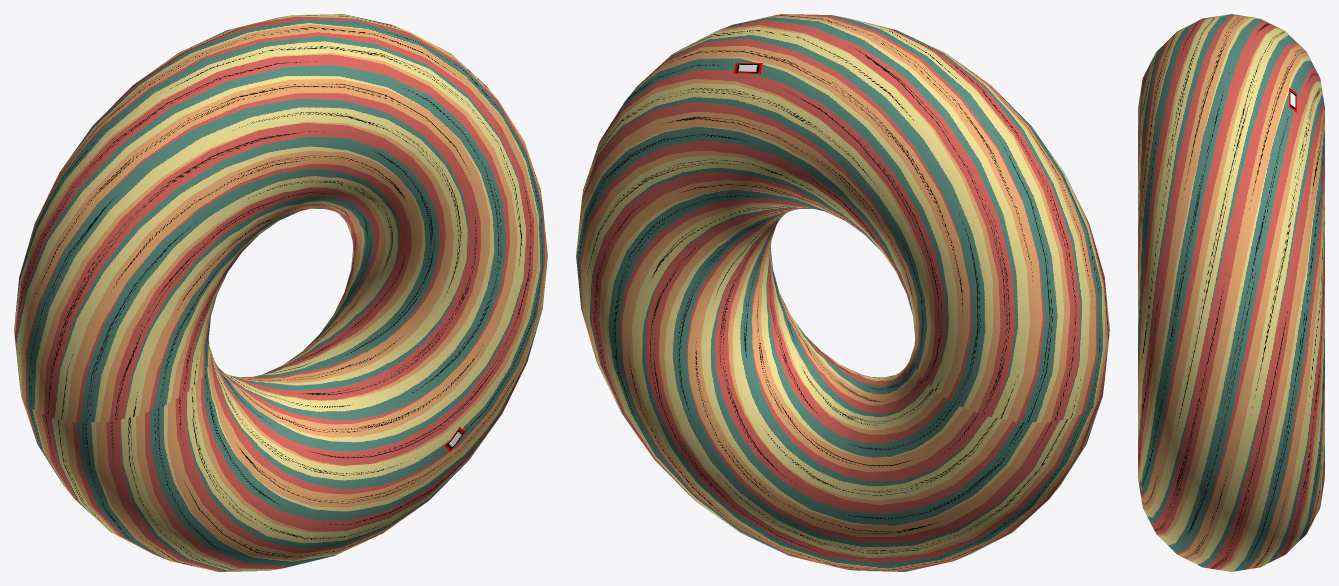
Rendered from uv_checkerboard_res_1024_iter_382_cat_map.obj.
The picture shows the model from 3 angles, left to right: view 1: azimuth 30°, elevation 25°; view 2: azimuth 150°, elevation 25°; view 3: azimuth 270°, elevation 25°; orthographic projection. The views are drawn at different scales.
Bounding box in the file's own units: 3 × 2.98 × 1.
